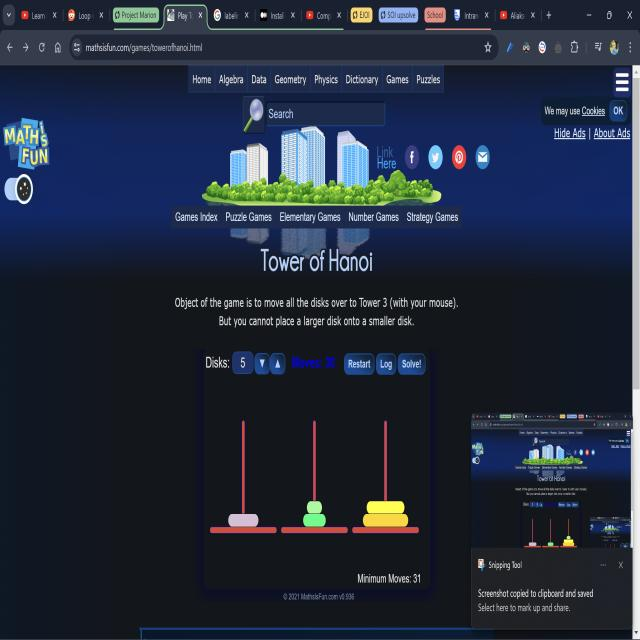disk1: (308, 501, 322, 514)
disk2: (303, 514, 326, 526)
disk3: (228, 513, 258, 526)
disk4: (366, 501, 404, 514)
disk5: (363, 514, 408, 527)
